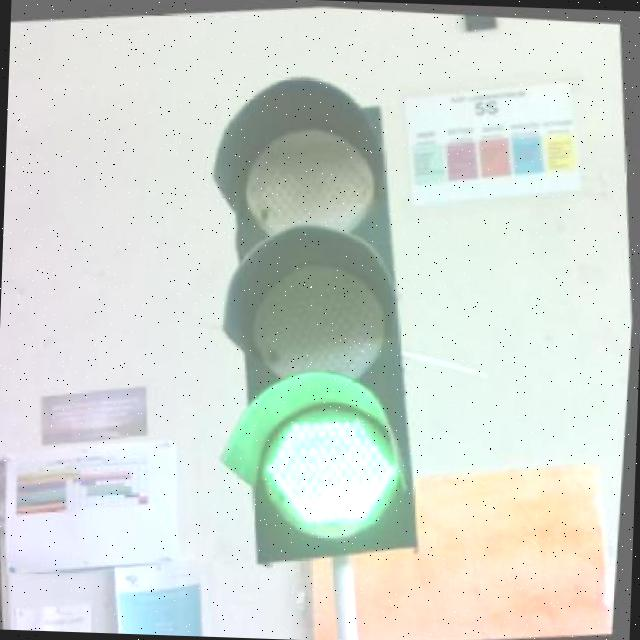green_light: (176, 56, 454, 573)
